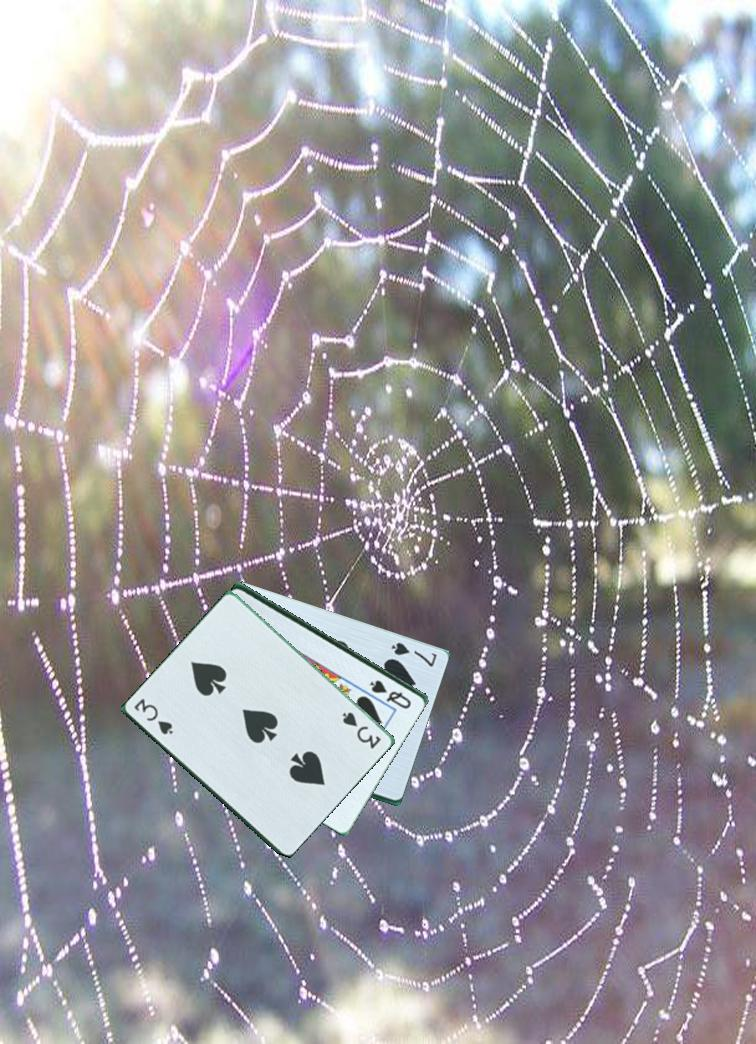3s: (131, 695, 179, 738), (339, 708, 384, 752)
7s: (389, 638, 440, 670)
qs: (367, 676, 415, 712)
